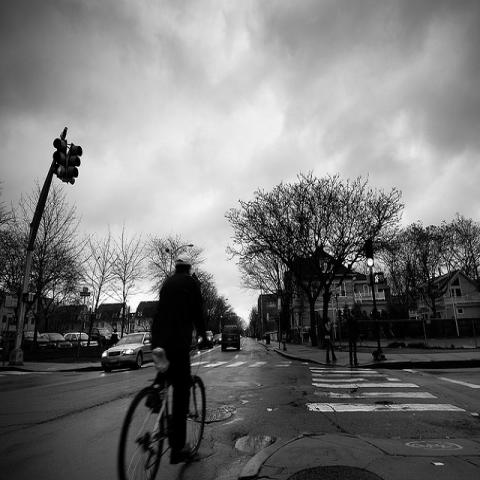car: (101, 333, 152, 372), (39, 331, 74, 348), (64, 332, 100, 346), (22, 330, 49, 346), (198, 337, 212, 349), (212, 334, 222, 344)
truck: (21, 330, 50, 357), (221, 324, 241, 351), (90, 327, 112, 351)
